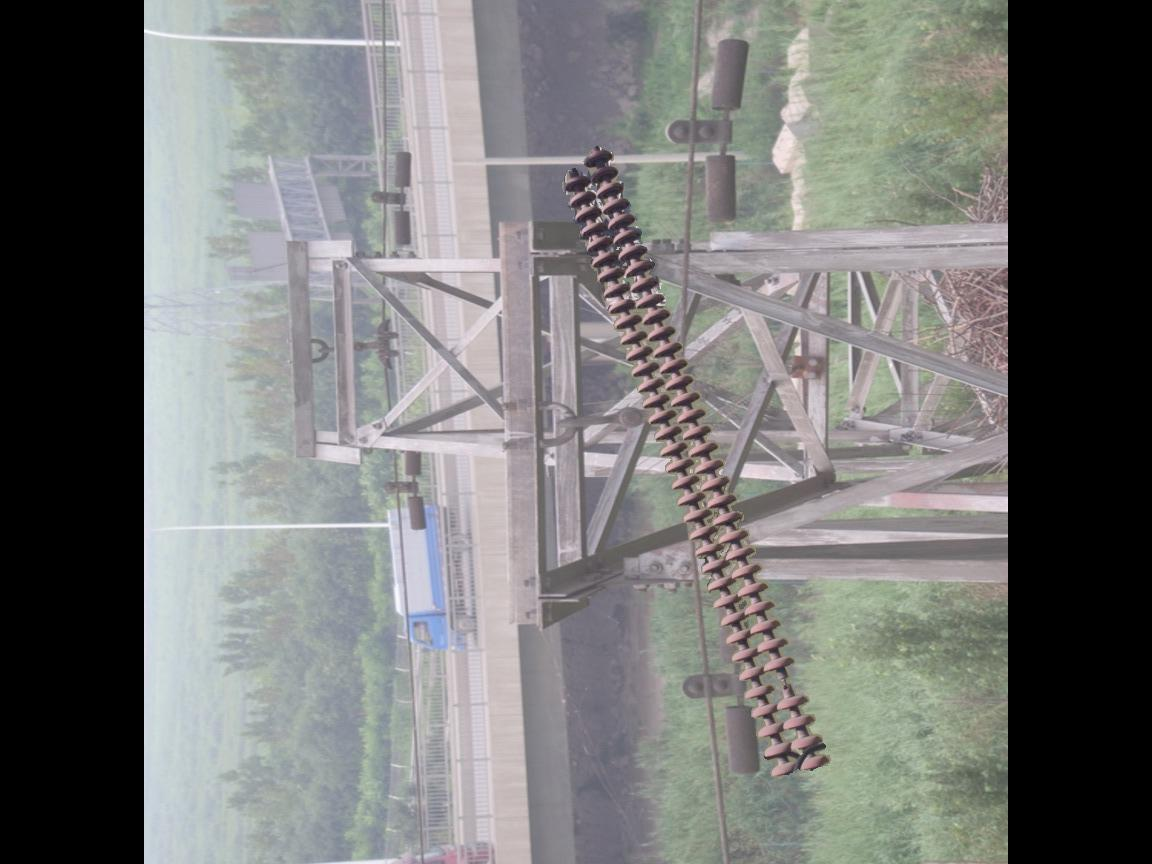insulator: (559, 142, 834, 782)
insulator_stringdrop: (759, 654, 814, 715)
